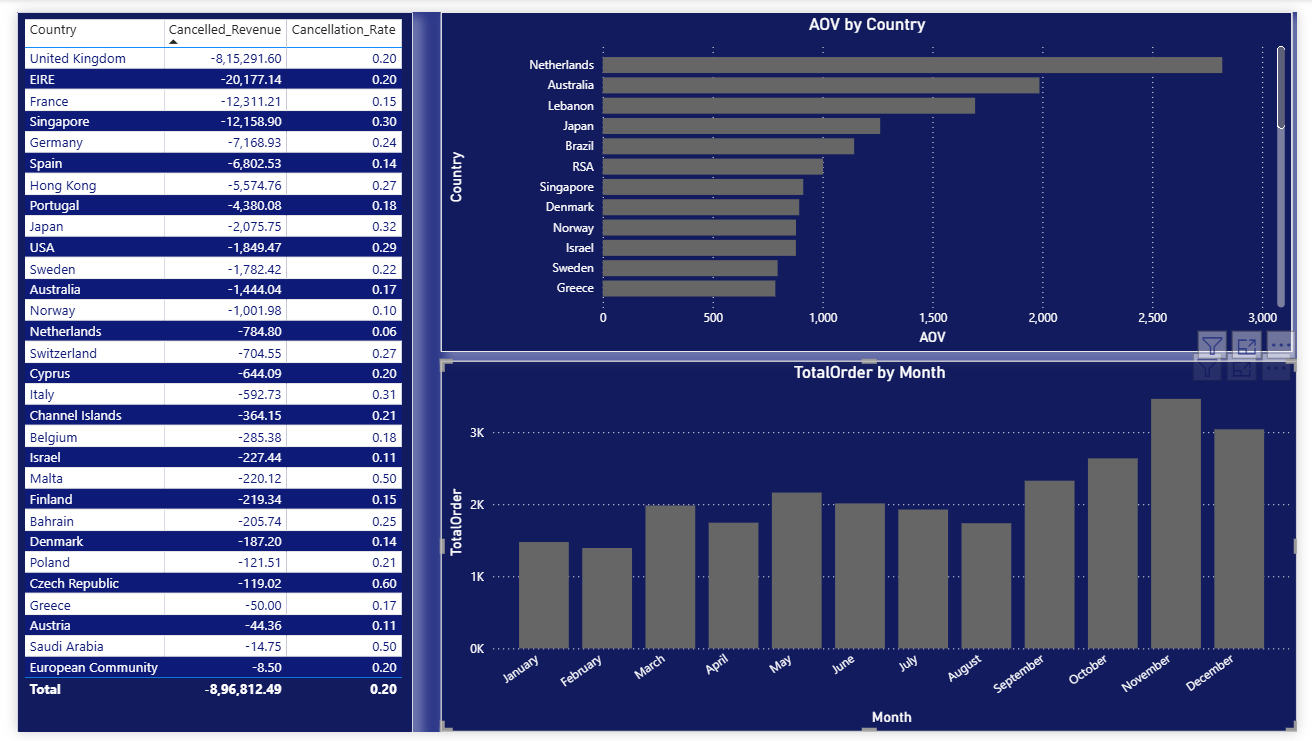

What the dashboard file says about the page in this screenshot:
{"tool":"powerbi","page":{"name":"Page 2","canvas":[1280,720],"ordinal":1},"visuals":[{"type":"tableEx","fields":{"Values":["Sheet1 (2).Country","Sheet1 (2).Cancelled_Revenue","Sheet1 (2).Cancellation_Rate"]},"box":[0,0,396.2,720.5],"z":0},{"type":"barChart","fields":{"Category":["Sheet1 (2).Country"],"Y":["Sheet1 (2).AOV"]},"box":[423.8,0,851.2,340],"z":2},{"type":"columnChart","fields":{"Y":["Sheet1 (2).TotalOrder"],"Category":["Sheet1 (2).InvoiceDate.Variation.Date Hierarchy.Month"]},"box":[423.8,348.8,856.2,371.2],"z":3}]}

Visuals, with their boxes in screenshot pixels (x1, y1, x2, y2), scaled from the page's 1280x720 canvas onto the 1312x741 screenshot:
tableEx - Sheet1 (2).Country x Sheet1 (2).Cancelled_Revenue: 0,0,406,740
barChart - Sheet1 (2).Country x Sheet1 (2).AOV: 434,0,1307,350
columnChart - Sheet1 (2).TotalOrder x Sheet1 (2).InvoiceDate.Variation.Date Hierarchy.Month: 434,359,1311,740
